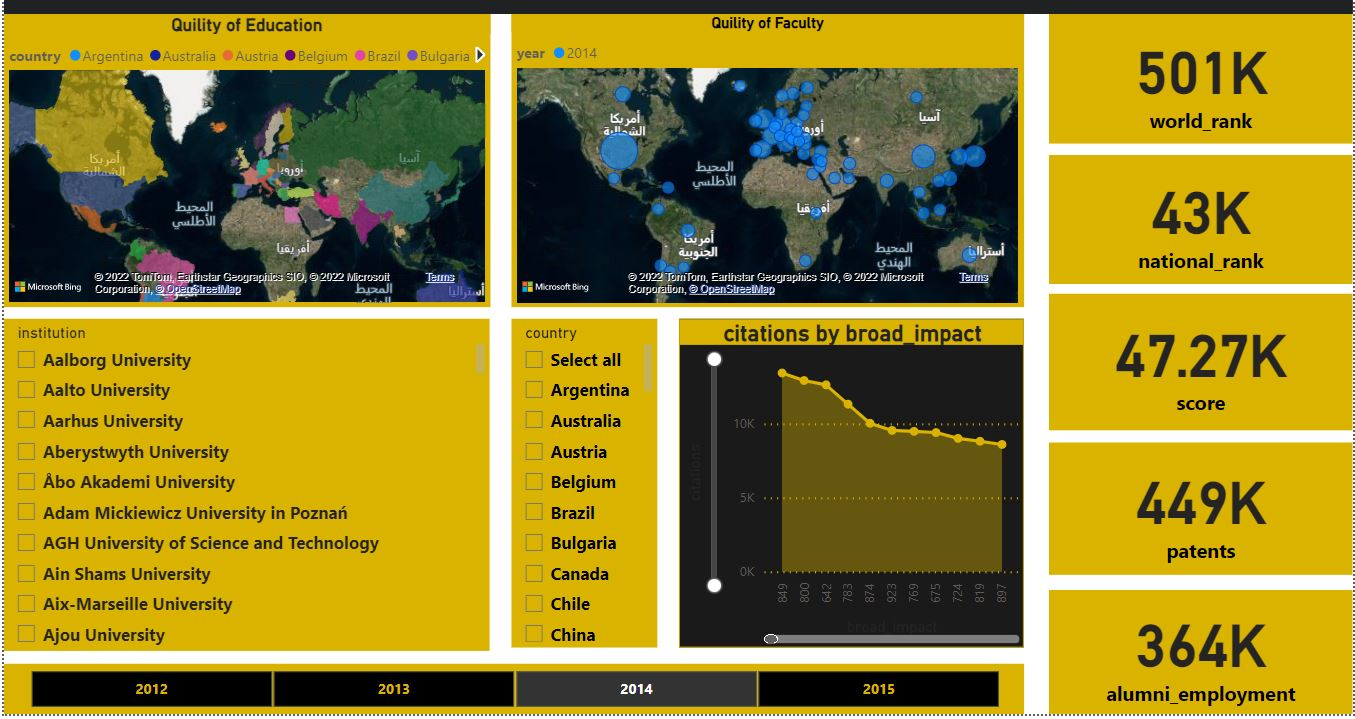

The dashboard page shown, as its layout file describes it:
{"tool":"powerbi","page":{"name":"Page 1","canvas":[1280,720],"ordinal":0},"visuals":[{"type":"map","title":"Quility of Faculty","fields":{"Category":["cwurData.country"],"Series":["cwurData.year"],"Size":["Sum(cwurData.quality_of_faculty)"]},"box":[481.6,55.7,486.3,278.7],"z":0},{"type":"filledMap","title":"Quility of Education","fields":{"Category":["cwurData.country"],"Series":["cwurData.country"]},"box":[0,55.7,461.4,278.7],"z":1000},{"type":"slicer","fields":{"Values":["cwurData.institution"]},"box":[0,345,461.1,314.8],"z":2000},{"type":"slicer","fields":{"Values":["cwurData.year"]},"box":[0,672.6,968.3,47.7],"z":3000},{"type":"slicer","fields":{"Values":["cwurData.country"]},"box":[481.8,345,138.3,311.7],"z":4000},{"type":"card","fields":{"Values":["Sum(cwurData.world_rank)"]},"box":[991.6,55.7,288.2,123.4],"z":5000},{"type":"card","fields":{"Values":["Sum(cwurData.national_rank)"]},"box":[991.6,189.8,288.2,122.2],"z":6000},{"type":"card","fields":{"Values":["Sum(cwurData.patents)"]},"box":[991.6,462.6,288.2,125.7],"z":7000},{"type":"card","fields":{"Values":["Sum(cwurData.score)"]},"box":[991.6,321.4,288.2,129.3],"z":8000},{"type":"card","fields":{"Values":["Sum(cwurData.alumni_employment)"]},"box":[991.6,602.6,288.2,117.4],"z":9000},{"type":"areaChart","fields":{"Category":["cwurData.broad_impact"],"Y":["Sum(cwurData.citations)"]},"box":[640.8,345,327.6,311.7],"z":10000},{"type":"textbox","box":[0,0,1279.9,55.7],"z":11000}]}

Visuals, with their boxes in screenshot pixels (x1, y1, x2, y2):
"Quility of Faculty" map: left=507, top=10, right=1022, bottom=305
"Quility of Education" filledMap: left=0, top=10, right=485, bottom=305
slicer - cwurData.institution: left=0, top=316, right=485, bottom=650
slicer - cwurData.year: left=0, top=663, right=1023, bottom=714
slicer - cwurData.country: left=507, top=316, right=654, bottom=647
card - Sum(cwurData.world_rank): left=1047, top=10, right=1353, bottom=140
card - Sum(cwurData.national_rank): left=1047, top=152, right=1353, bottom=281
card - Sum(cwurData.patents): left=1047, top=441, right=1353, bottom=574
card - Sum(cwurData.score): left=1047, top=291, right=1353, bottom=428
card - Sum(cwurData.alumni_employment): left=1047, top=589, right=1353, bottom=714
areaChart - cwurData.broad_impact x Sum(cwurData.citations): left=676, top=316, right=1023, bottom=647
textbox: left=0, top=0, right=1353, bottom=10
